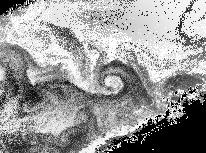CE: (100, 67, 130, 95)
